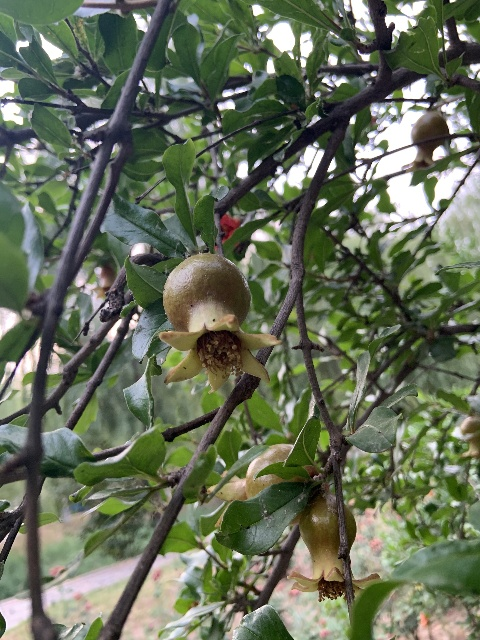early-fruit: (158, 252, 282, 391), (205, 443, 318, 531), (286, 494, 380, 599), (400, 111, 449, 168)
flower: (219, 213, 241, 245)
mid-growth: (457, 416, 480, 459)
